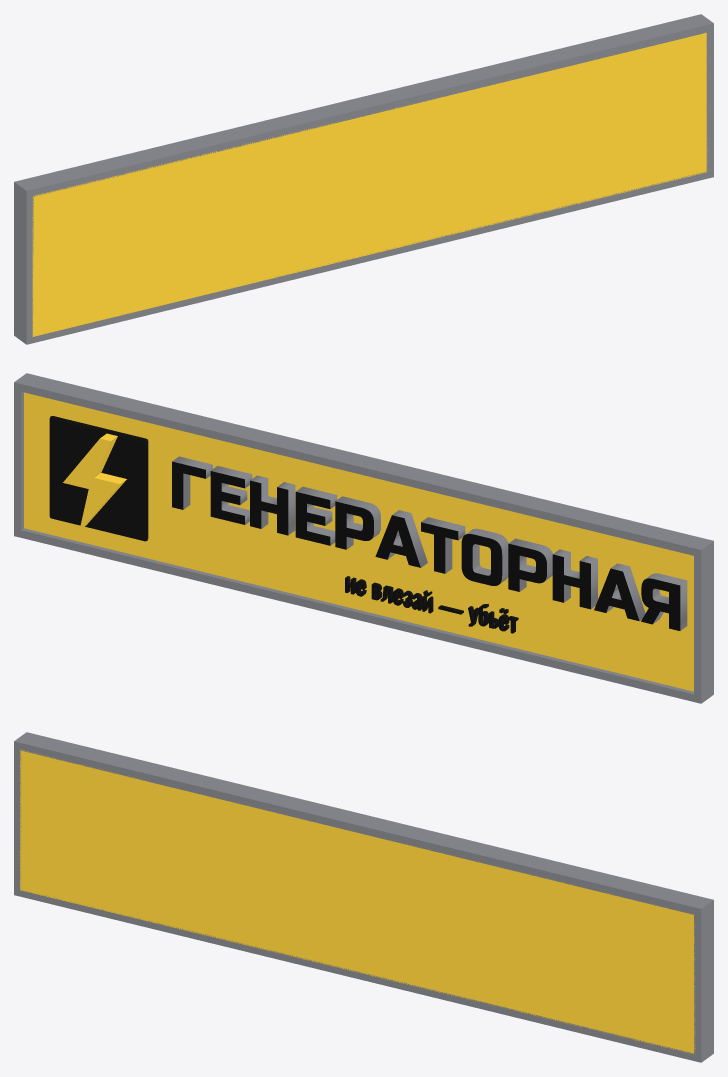
Rendered from generator.glb.
3 renders of one model, top to bottom at view 1: azimuth 30°, elevation 25°; view 2: azimuth 150°, elevation 25°; view 3: azimuth 330°, elevation 25°, orthographic.
Parts seen in each view (by area): view 1: Sign; view 2: Sign; view 3: Sign.
Boxes of the visible parts, bbox=[...] form: Sign: bbox=[14, 14, 713, 344]; Sign: bbox=[14, 373, 713, 703]; Sign: bbox=[14, 732, 713, 1062].
Bounding box in the file's own units: 5.66 × 1.21 × 0.28.
1 material, 1 textured.
